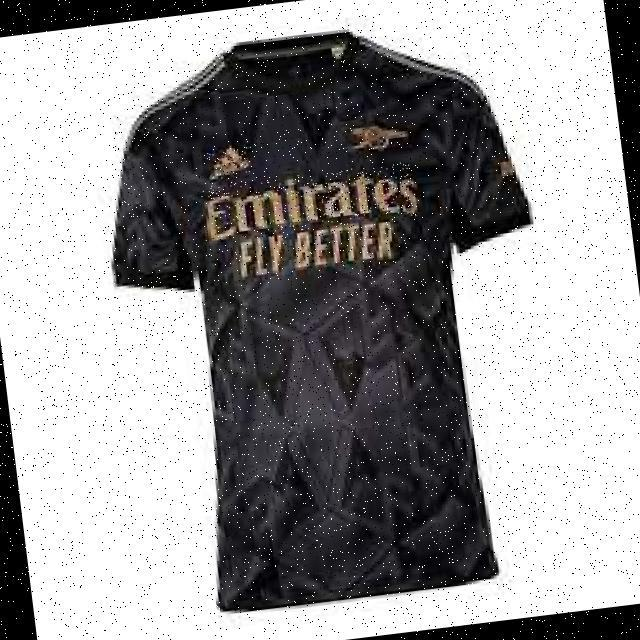Adidas: (205, 141, 254, 184)
Emirates: (198, 161, 419, 242)
